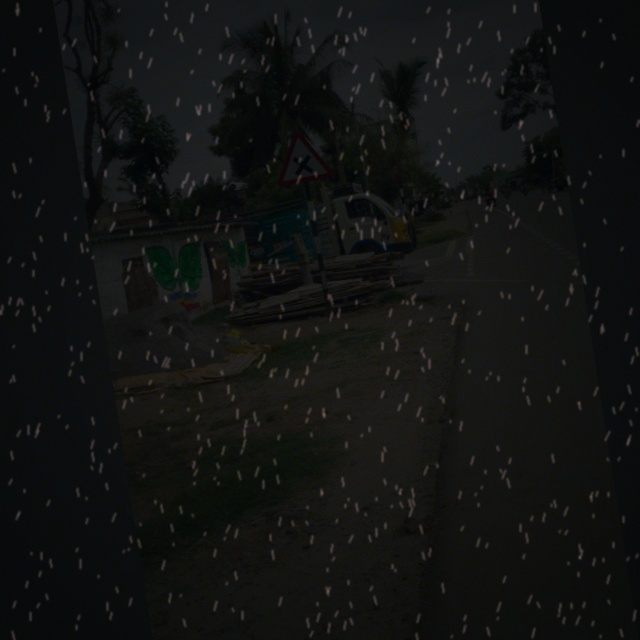Cross_Road: (266, 122, 337, 189)
